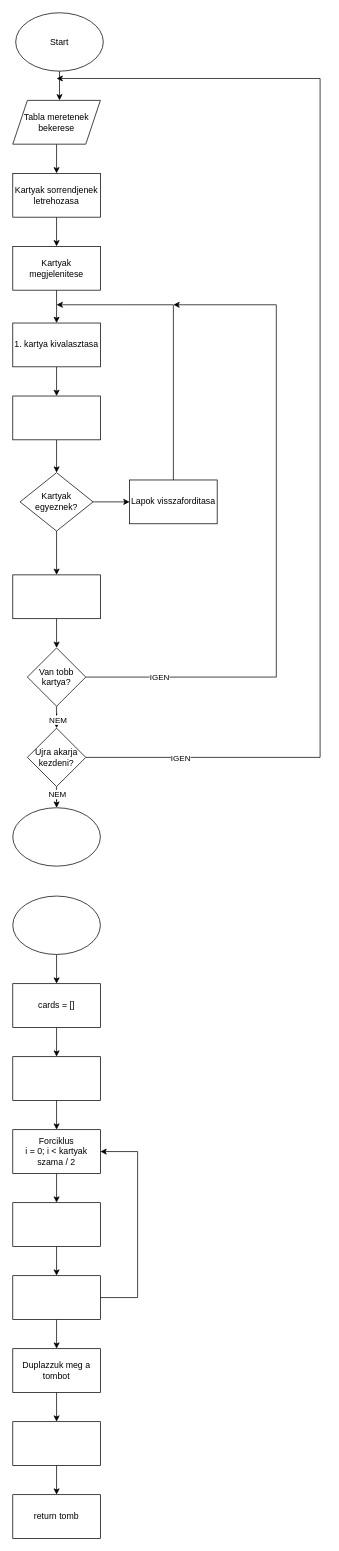
Image size: 339x1551. Some labels were removed from this diagram. The shapes that lost their labels are listed below. From the top down, each one's centre as x and y in pixels, then its label:
At point 56,417: "2. kartya kivalasztasa".
At point 56,596: "Kartyak eltuntetese".
At point 56,836: "Stop".
At point 56,1078: "Kartyak szama = x*y".
At point 56,1224: "r = random szam a tomb hatrain belul".
At point 56,1297: "r-ik elem athelyezese r-ik elem kitorlese".
At point 56,1443: "Keverjuk ossze a tombot".
